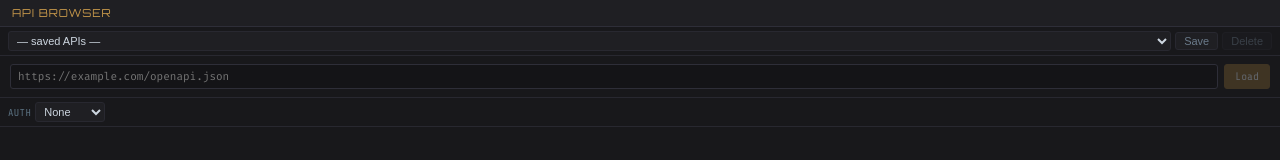
Scenario: AuthConfig UI › shows username and password inputs when basic is selected
The image size is (1280, 160).
Select "Basic" in the dropdown showing "None" next to "Auth": (70, 112) [35,102,105,122]
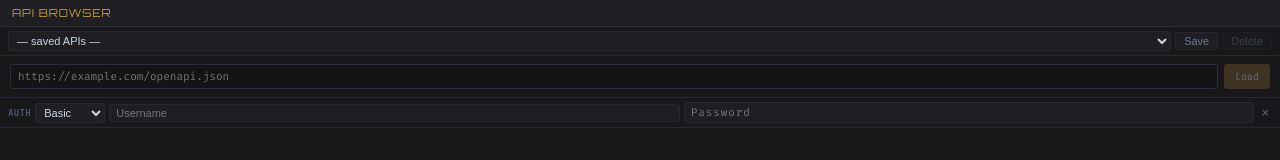
Result: the field with placeholder "Username" is shown at [109,104,680,122]
Result: the password field with placeholder "Password" is shown at [684,102,1254,123]
